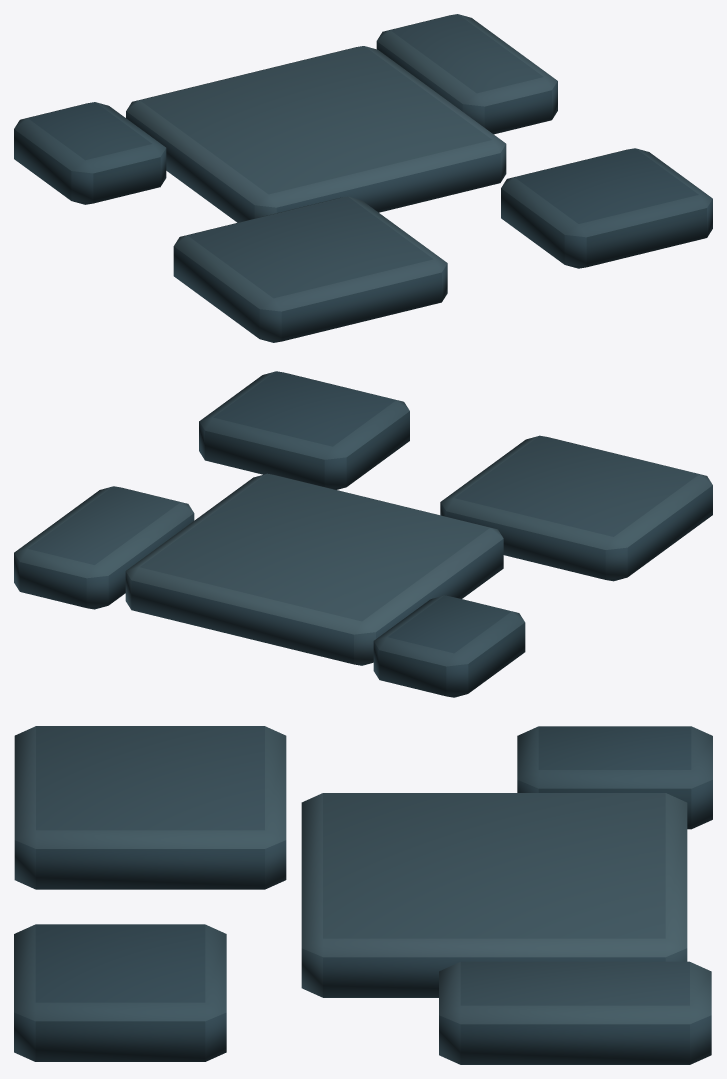
The model's file is stone_path_5.fbx.
The picture shows the model from 3 angles, top to bottom: view 1: azimuth 30°, elevation 25°; view 2: azimuth 150°, elevation 25°; view 3: azimuth 270°, elevation 25°; orthographic projection. The views are drawn at different scales.
Visible parts, largest first — view 1: stone_path_5; view 2: stone_path_5; view 3: stone_path_5.
Boxes of the visible parts, left/top/right/bottom form: stone_path_5: left=14, top=14, right=712, bottom=342; stone_path_5: left=14, top=371, right=712, bottom=697; stone_path_5: left=14, top=726, right=712, bottom=1064.
Bounding box in the file's own units: 196 × 18.28 × 195.
